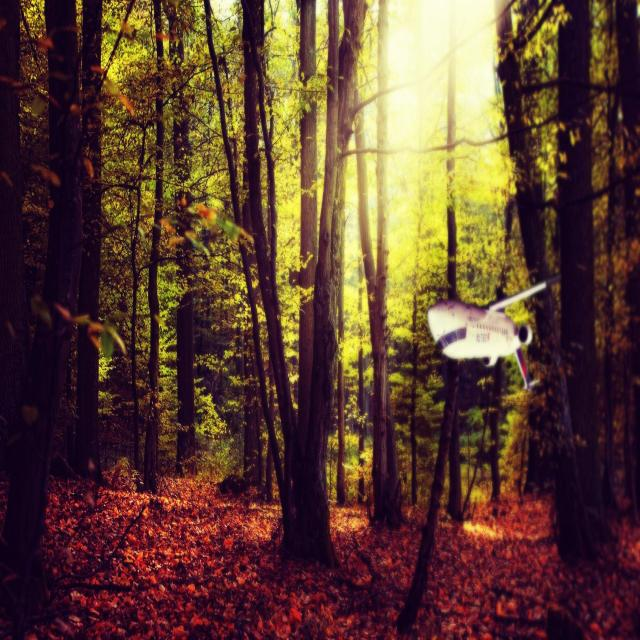airplane: (426, 271, 560, 392)
